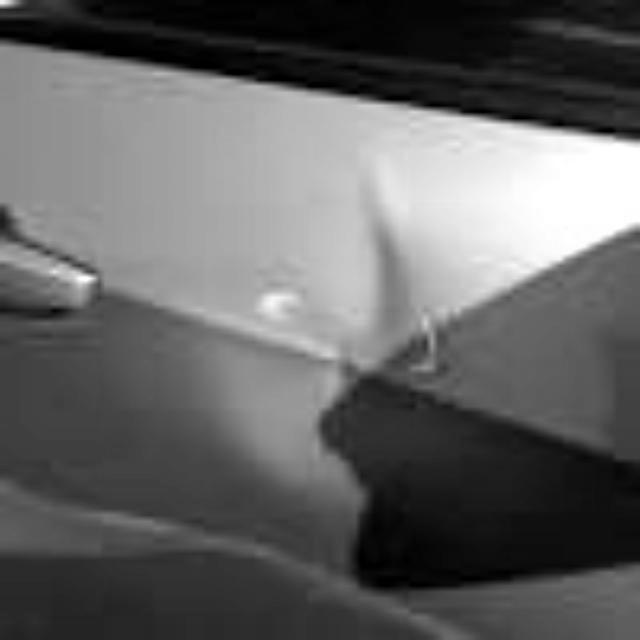doorouter-dent: (1, 90, 634, 614)
